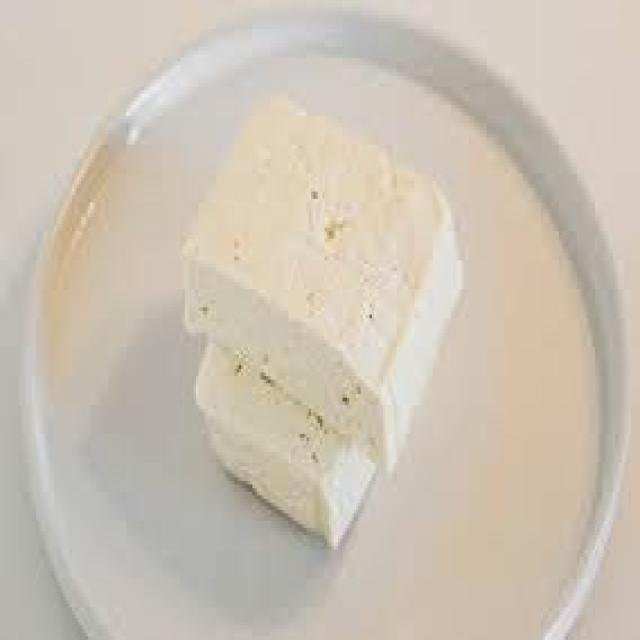tofu: (179, 85, 471, 559)
